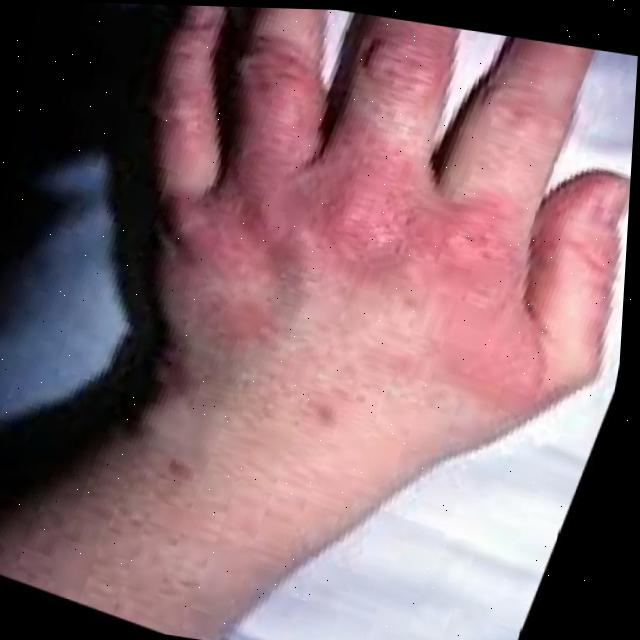Eczema: (166, 84, 600, 428)
